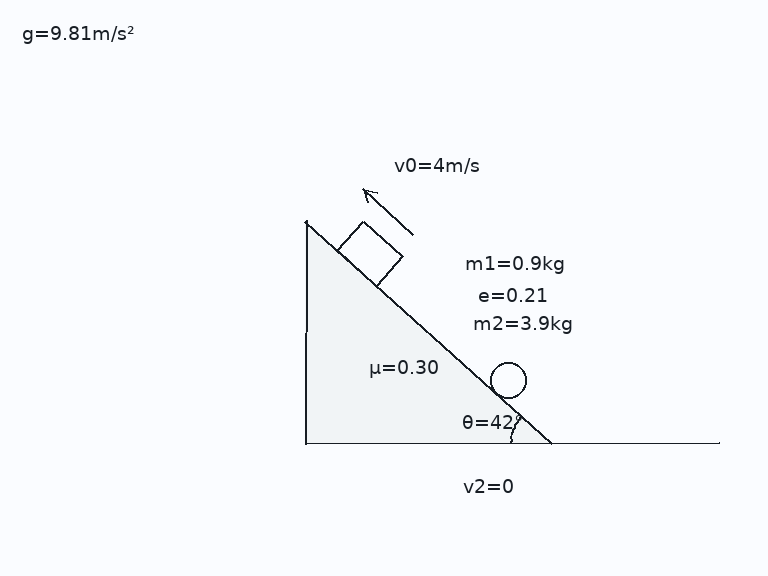ball: (488, 360, 528, 400)
block: (335, 219, 405, 288)
ramp: (303, 220, 553, 445)
